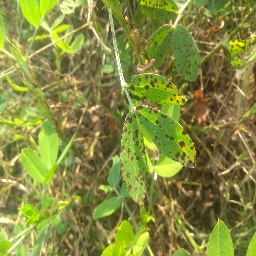GroundNut_Leaf: (143, 106, 197, 161), (126, 73, 191, 105), (171, 26, 203, 71), (205, 218, 232, 255), (37, 121, 59, 159), (144, 26, 165, 62), (93, 196, 122, 222), (20, 1, 41, 28), (116, 219, 133, 251)
